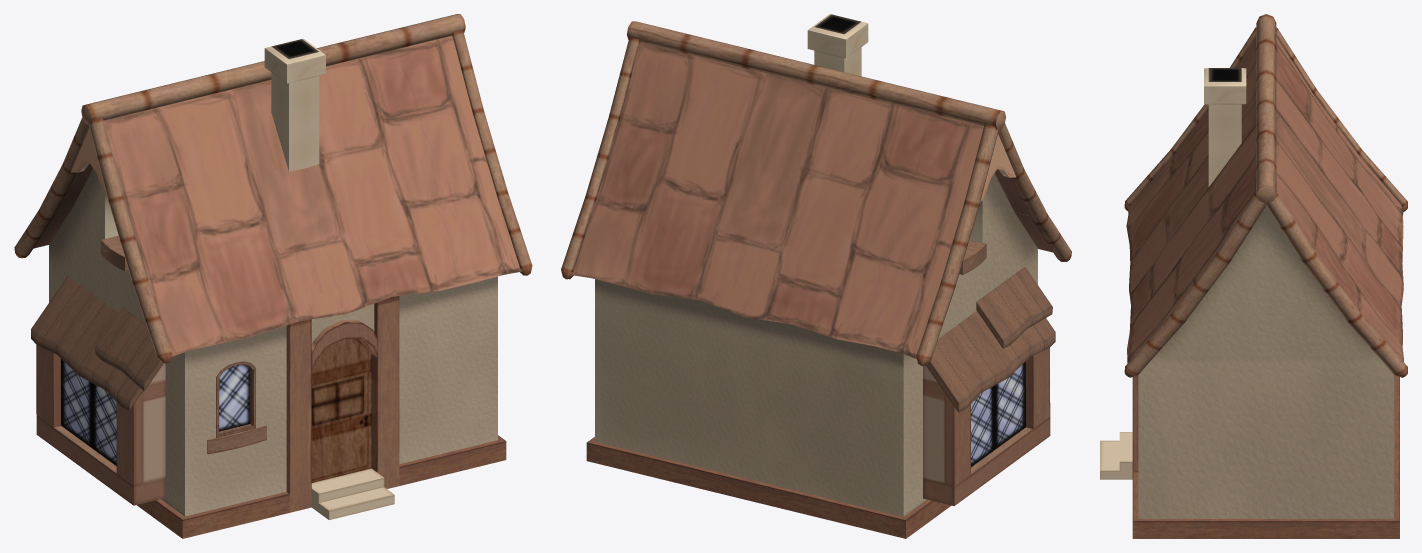
File: house1T.fbx
The picture shows the model from 3 angles, left to right: view 1: azimuth 30°, elevation 25°; view 2: azimuth 150°, elevation 25°; view 3: azimuth 270°, elevation 25°; orthographic projection. The views are drawn at different scales.
Parts seen in each view (by area): view 1: house1_H1, house1_1, house1_SH, house1_H4, house1_B1, house1_S4, house1_H3, house1_S5, house1_S7, house1_H2, house1_C2, house1_G1 (+1 smaller); view 2: house1_H2, house1_1, house1_SH, house1_H4, house1_S7, house1_H3, house1_S6, house1_B1, house1_S4, house1_H1, house1_G1, house1_C1; view 3: house1_1, house1_H2, house1_H1, house1_SH, house1_B1, house1_S5, house1_S6, house1_S7, house1_S4.
Boxes of the visible parts, left/top/right/bottom form: house1_H1: left=103, top=36, right=522, bottom=356; house1_1: left=36, top=169, right=506, bottom=538; house1_SH: left=81, top=14, right=465, bottom=124; house1_H4: left=31, top=276, right=142, bottom=410; house1_B1: left=264, top=38, right=325, bottom=171; house1_S4: left=88, top=118, right=172, bottom=363; house1_H3: left=95, top=307, right=162, bottom=391; house1_S5: left=451, top=30, right=532, bottom=275; house1_S7: left=14, top=118, right=89, bottom=258; house1_H2: left=33, top=164, right=92, bottom=248; house1_C2: left=207, top=425, right=266, bottom=454; house1_G1: left=70, top=128, right=107, bottom=197; house1_H2: left=571, top=42, right=983, bottom=359; house1_1: left=586, top=174, right=1050, bottom=538; house1_SH: left=627, top=21, right=1005, bottom=129; house1_H4: left=926, top=311, right=1055, bottom=412; house1_S7: left=916, top=124, right=998, bottom=365; house1_H3: left=976, top=267, right=1052, bottom=348; house1_S6: left=561, top=37, right=640, bottom=279; house1_B1: left=807, top=14, right=868, bottom=76; house1_S4: left=998, top=123, right=1071, bottom=261; house1_H1: left=994, top=169, right=1052, bottom=252; house1_G1: left=980, top=134, right=1016, bottom=202; house1_C1: left=959, top=240, right=986, bottom=274; house1_1: left=1100, top=205, right=1399, bottom=538; house1_H2: left=1276, top=37, right=1404, bottom=362; house1_H1: left=1126, top=37, right=1256, bottom=363; house1_SH: left=1256, top=14, right=1276, bottom=203; house1_B1: left=1204, top=68, right=1246, bottom=186; house1_S5: left=1124, top=193, right=1266, bottom=377; house1_S6: left=1266, top=192, right=1407, bottom=377; house1_S7: left=1276, top=27, right=1407, bottom=211; house1_S4: left=1124, top=27, right=1256, bottom=211.
Size of the model in its own units: 10.71 by 11.01 by 7.88.
